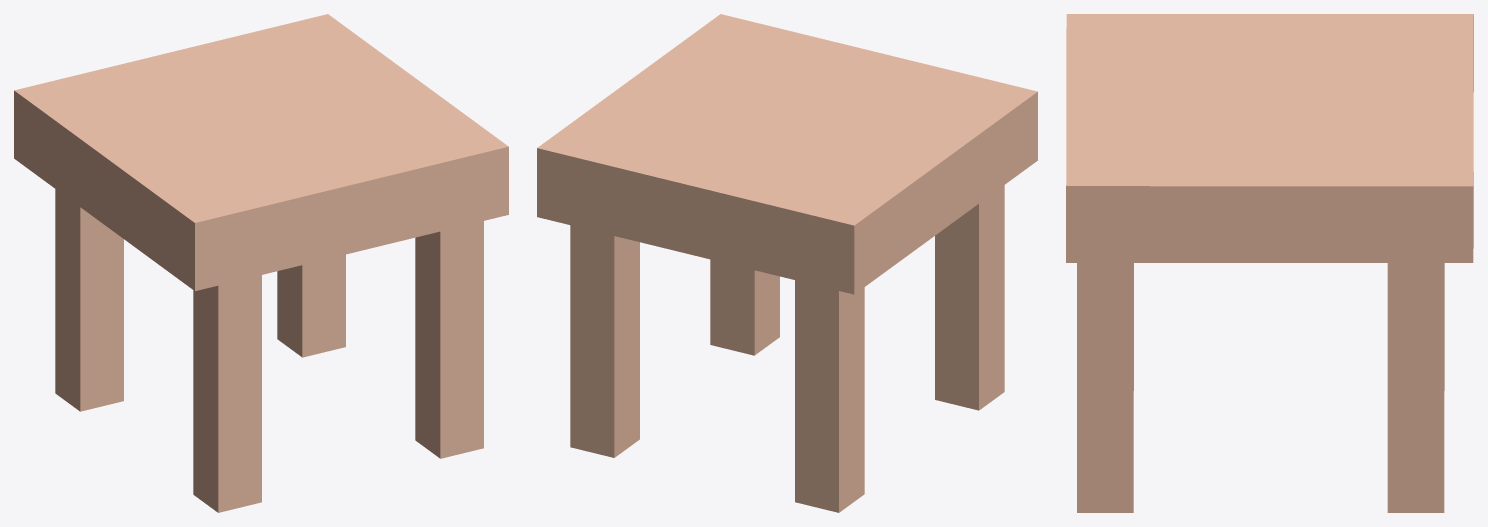
The model's file is Side table.glb.
The picture shows the model from 3 angles, left to right: view 1: azimuth 30°, elevation 25°; view 2: azimuth 150°, elevation 25°; view 3: azimuth 270°, elevation 25°; orthographic projection. The views are drawn at different scales.
Parts seen in each view (by area): view 1: Cube.012; view 2: Cube.012; view 3: Cube.012.
Part boxes in pixels (x1,y1,x2,y2): Cube.012: (14, 14, 508, 512); Cube.012: (537, 14, 1037, 512); Cube.012: (1066, 14, 1473, 512).
Size of the model in its own units: 0.3973 by 0.3631 by 0.3973.
